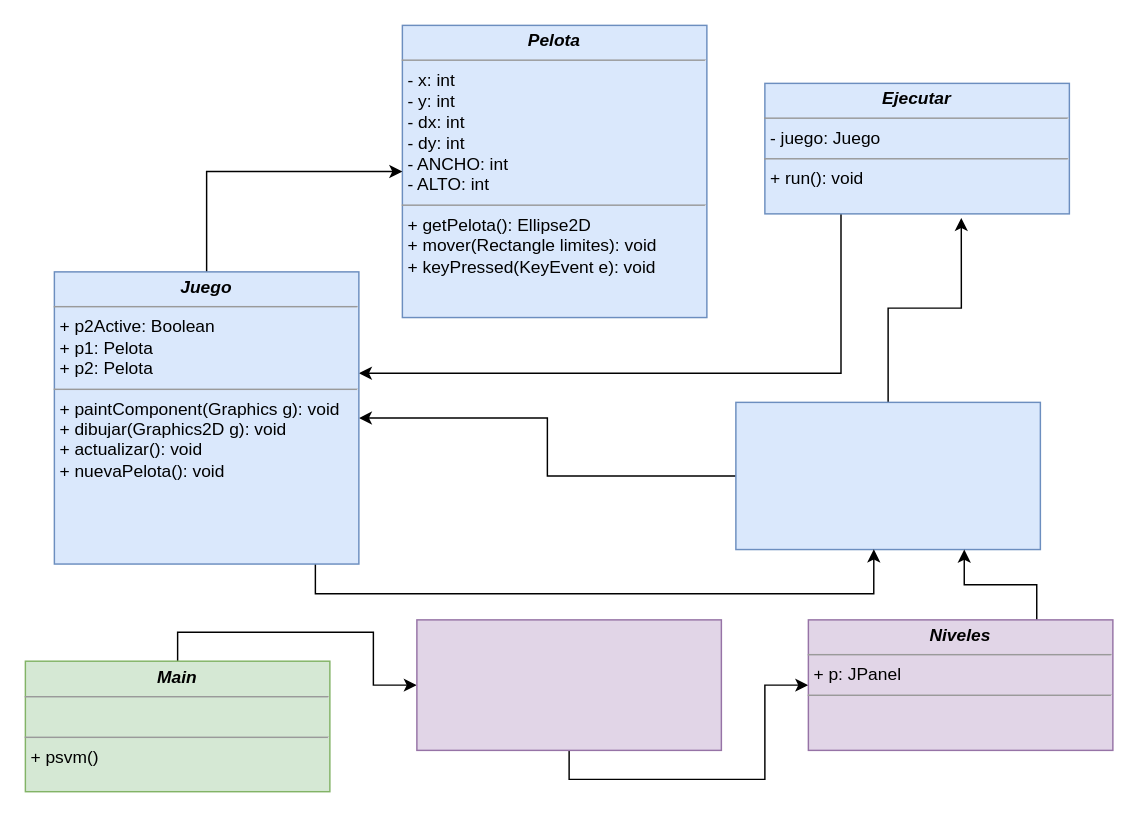
The diagram is 1138 pixels wide and 818 high, and some of its shapes have lost their labels. The box of each missing label's shape, as (x1, y1, x2, y2) in pixels:
Menu + p1: JPanel + nivelesAbrir(): void: (415, 618, 721, 750)
Principal + nivel: int + game: Juego: (734, 401, 1040, 550)
